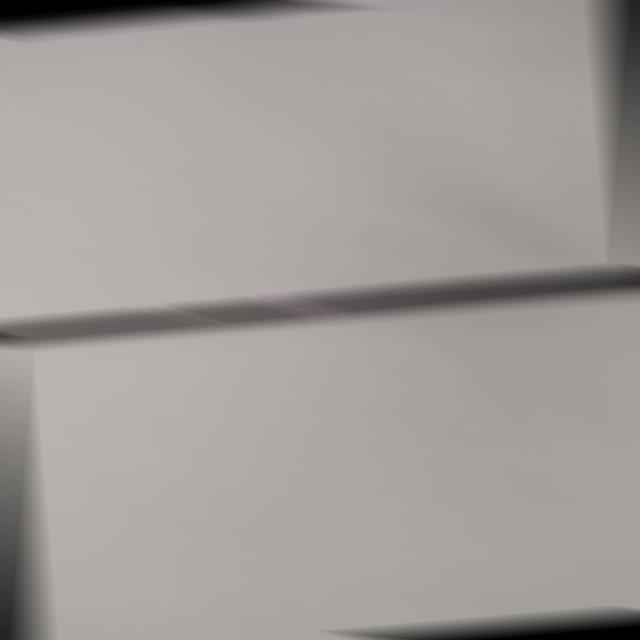pink: (268, 298, 325, 315)
